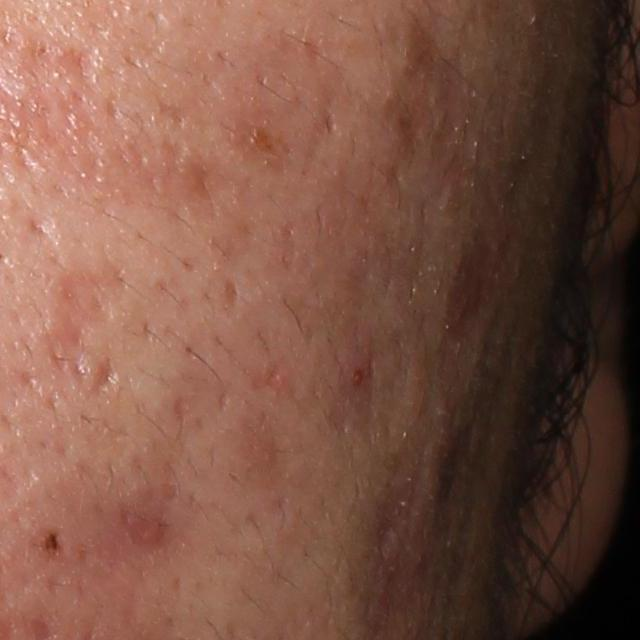atrophic_scar: (28, 250, 139, 401), (374, 360, 445, 586), (109, 506, 188, 565), (125, 2, 175, 74), (223, 269, 243, 325)
nevus: (31, 526, 67, 558)
papule: (342, 356, 377, 390)
